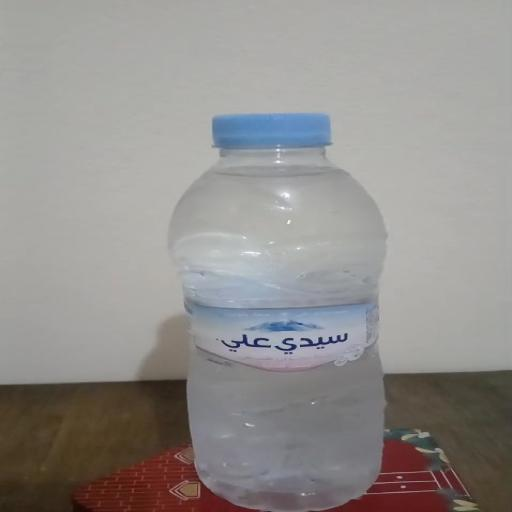bouteille conformite: (178, 101, 455, 512)
